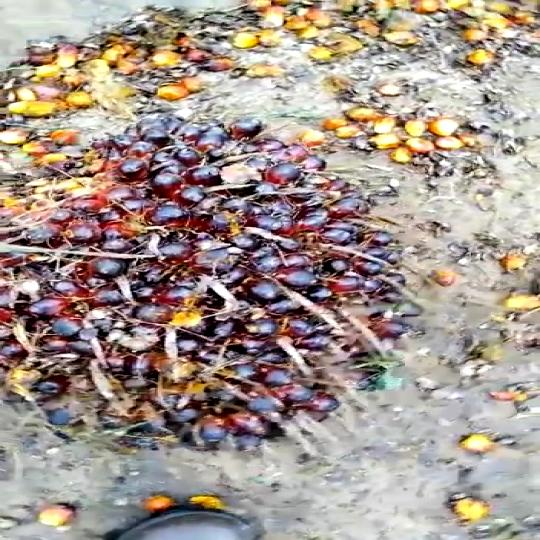kurang masak: (0, 113, 402, 469)
